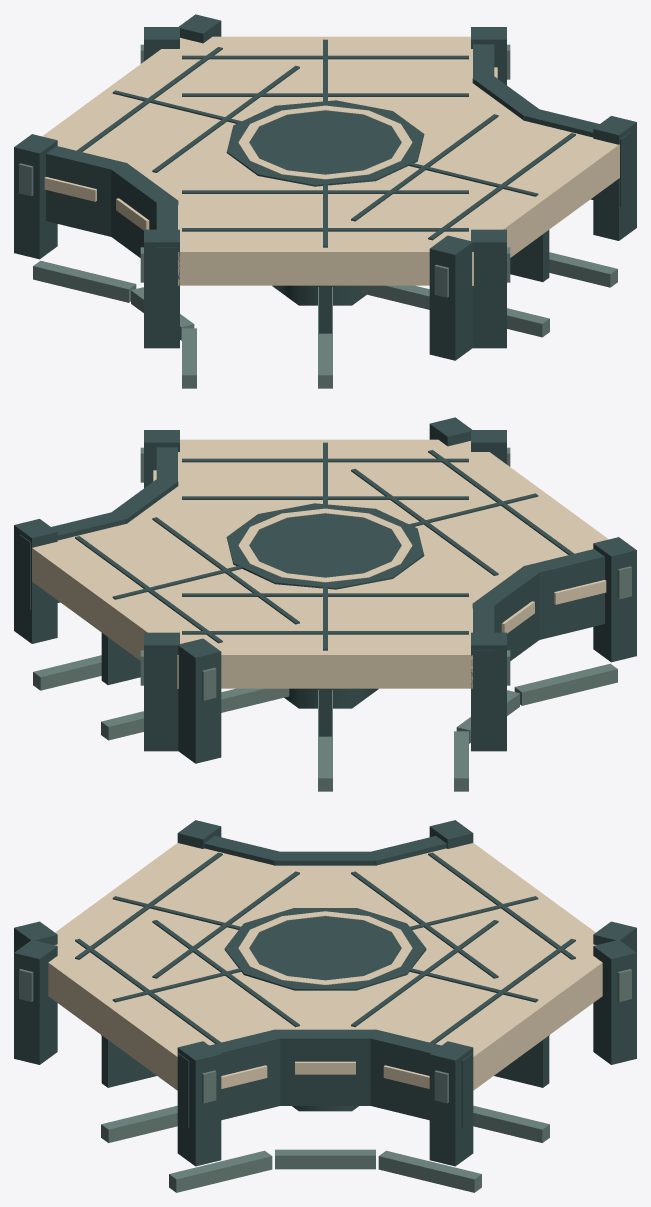
The model's file is Junction_K_lab2.glb.
3 renders of one model, top to bottom at view 1: azimuth 30°, elevation 25°; view 2: azimuth 150°, elevation 25°; view 3: azimuth 270°, elevation 25°, orthographic.
Parts seen in each view (by area): view 1: Junction_K; view 2: Junction_K; view 3: Junction_K.
Boxes of the visible parts, box(x1,y1,x2,y2) form: Junction_K: box(14, 14, 636, 388); Junction_K: box(14, 417, 636, 791); Junction_K: box(14, 820, 636, 1192).
Bounding box in the file's own units: 5.36 × 1.58 × 5.87.
